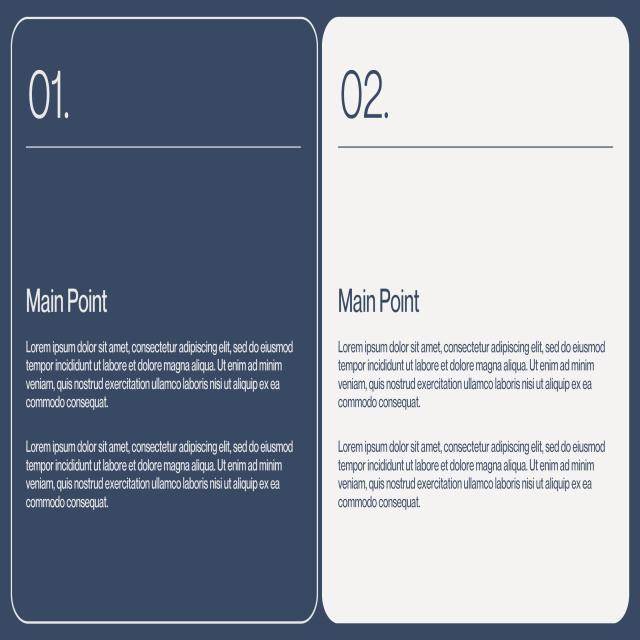subtitle: (21, 276, 118, 326), (334, 283, 432, 327)
text: (334, 339, 612, 519), (23, 340, 304, 516), (334, 56, 397, 126), (20, 60, 80, 126)
